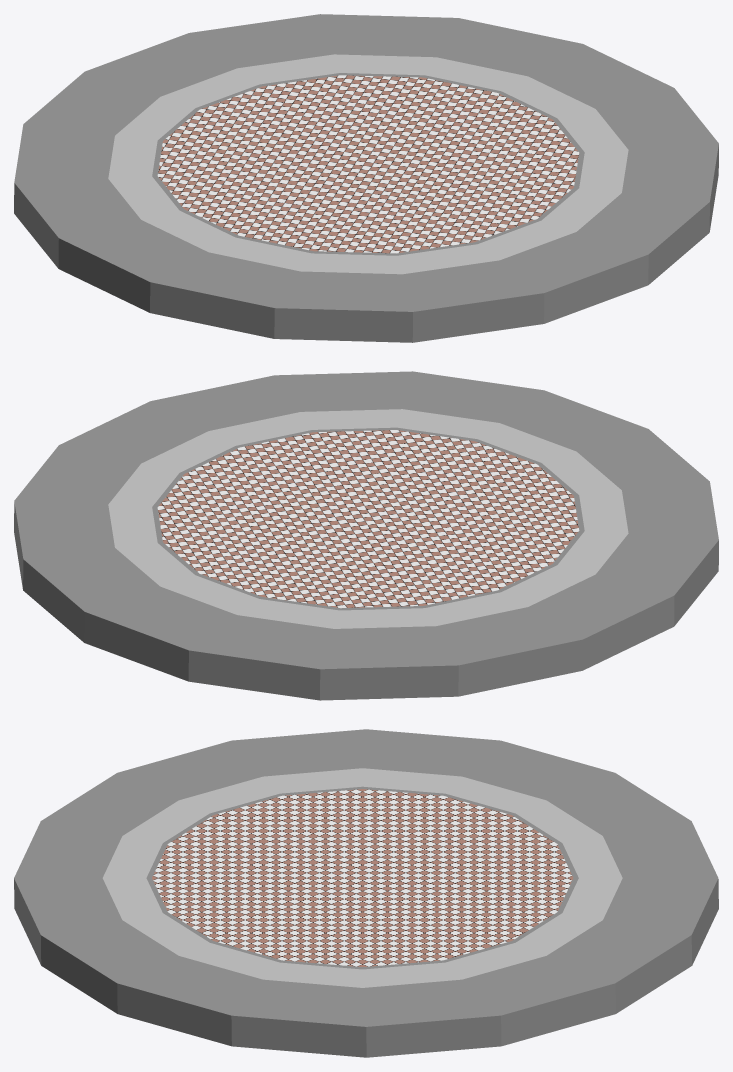
Rendered from roundchunk_big.fbx.
The picture shows the model from 3 angles, top to bottom: view 1: azimuth 30°, elevation 25°; view 2: azimuth 150°, elevation 25°; view 3: azimuth 270°, elevation 25°; orthographic projection.
Visible parts, largest first — view 1: roundchunk_big; view 2: roundchunk_big; view 3: roundchunk_big.
Boxes of the visible parts, box(x1,y1,x2,y2) form: roundchunk_big: box(14, 14, 718, 342); roundchunk_big: box(14, 371, 718, 700); roundchunk_big: box(14, 729, 718, 1057).
Bounding box in the file's own units: 538 × 539 × 25.94.
